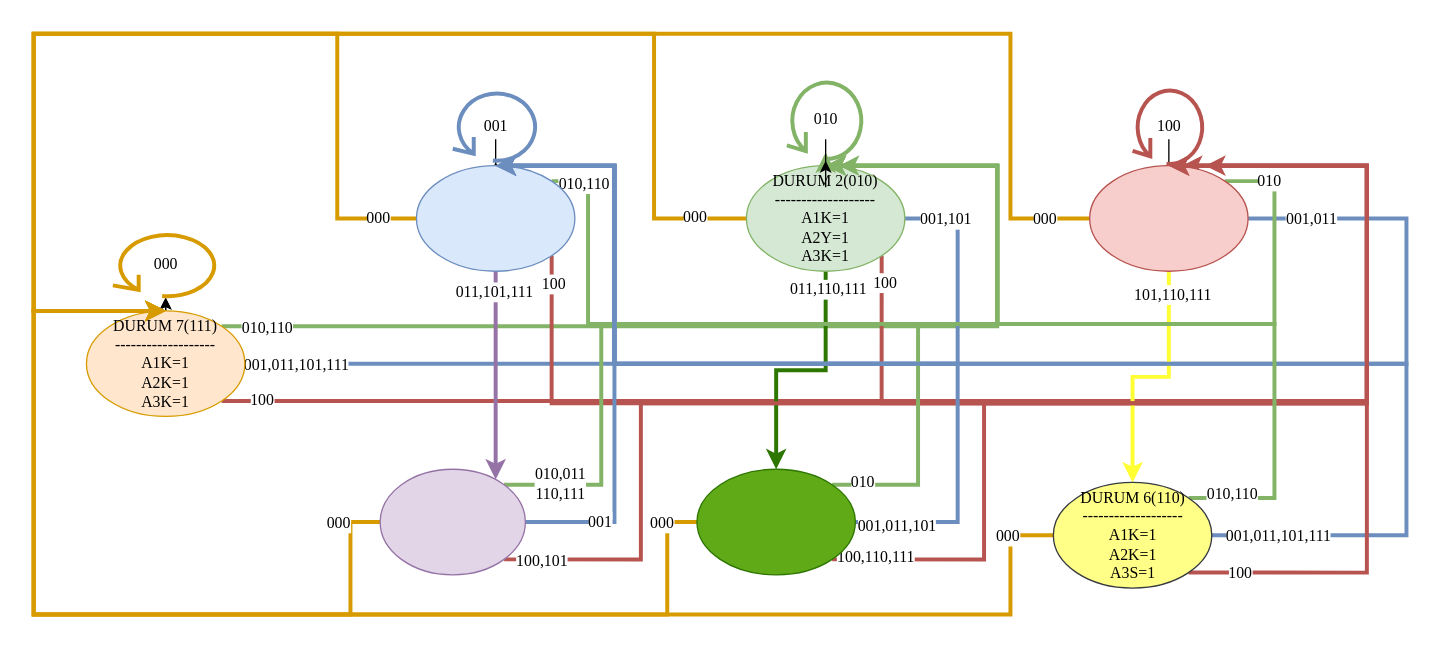
Some shapes in this 1441 by 649 pixel diagram are drawn without their labels. Each missing label, with the box of its shape:
DURUM 1 (001) ------------------- A1Y=1 A2K=1 A3K=1: (415, 164, 575, 271)
DURUM 3(011) ------------------- A1K=1 A2K=1 A3Y=1: (1088, 164, 1248, 271)
DURUM 4(100) ------------------- A1S=1 A2K=1 A3K=1: (379, 468, 525, 575)
DURUM 5(101) ------------------- A1K=1 A2S=1 A3K=1: (696, 468, 855, 575)
